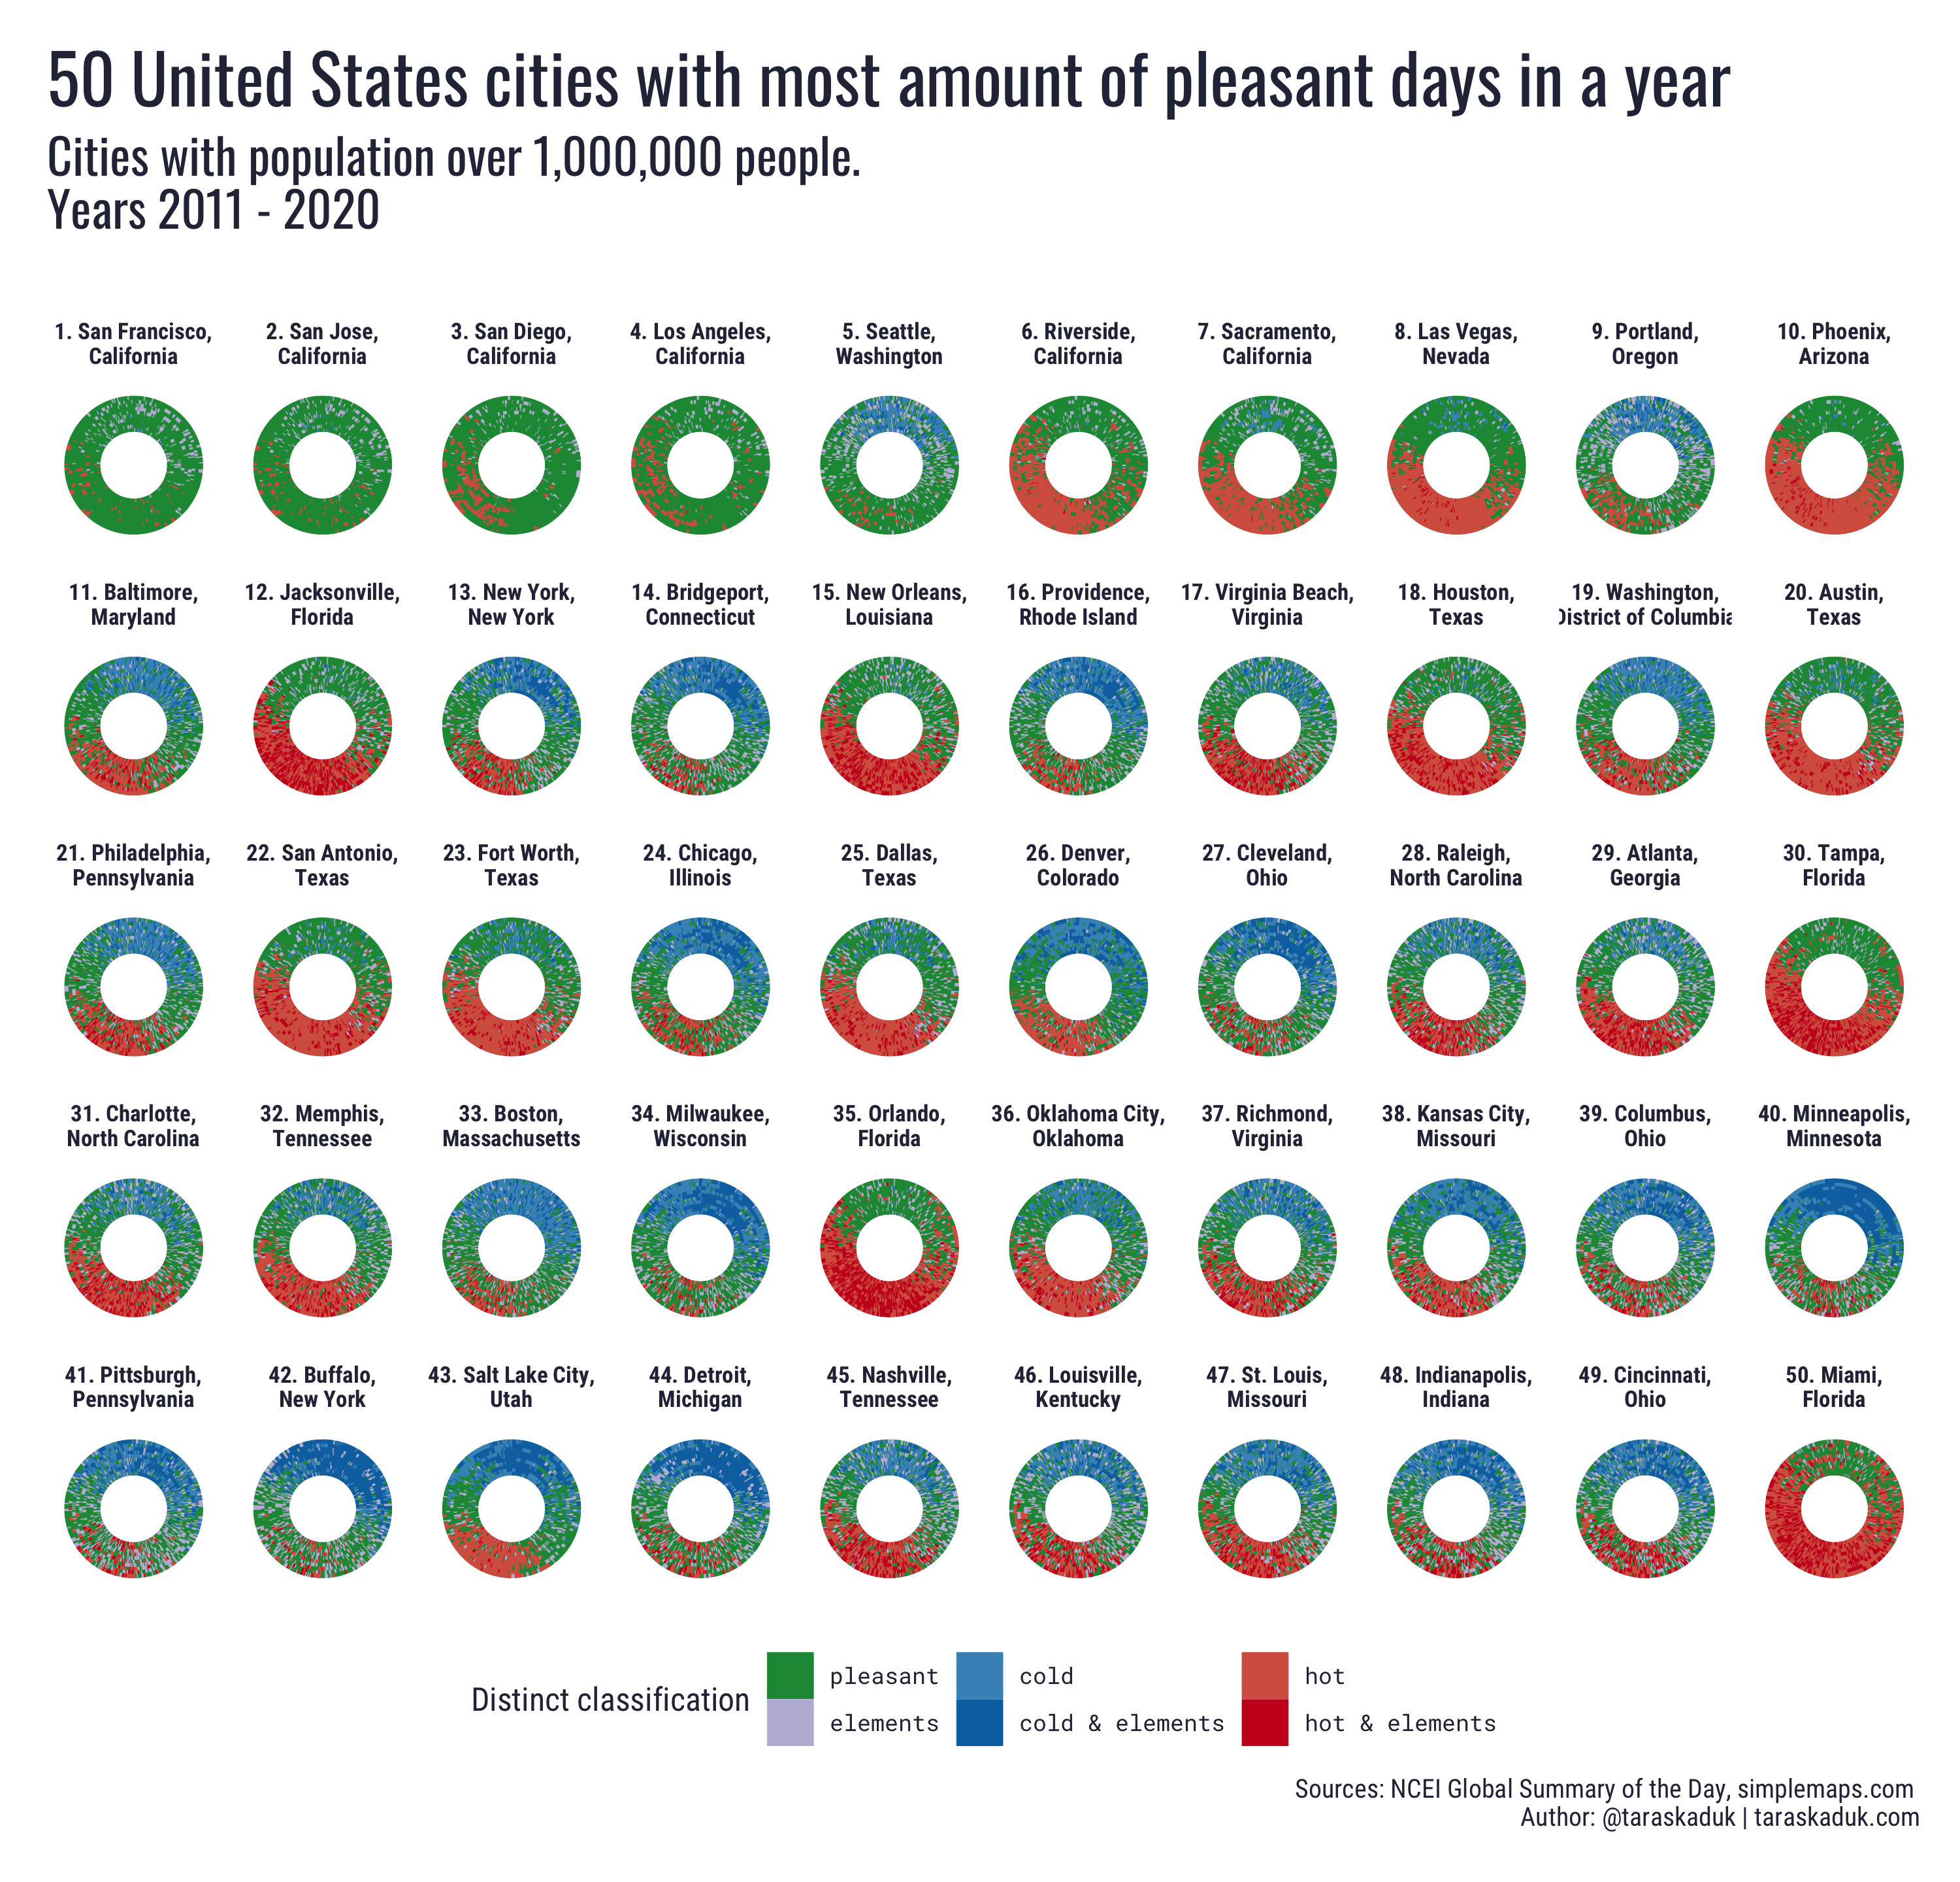

This screenshot's page, from the dashboard's own definition file:
{"tool":"tableau","page":{"name":"Radial Stack Bar Charts","canvas":[900,800],"ordinal":0},"visuals":[{"type":"worksheet","title":"radial stacked bar","mark":"Polygon","box":[0,0,796,800]},{"type":"legend","title":"radial stacked bar","param":"[federated.0d4brrl0id6ggj1ffol9q0xiccq4].[none:Calculation_4518799278402621453:n","box":[796,0,104,90]},{"type":"parameter","param":"[Parameters].[Parameter 4]","box":[796,90,104,52]},{"type":"parameter","param":"[Parameters].[Parameter 1]","box":[796,142,104,52]},{"type":"parameter","param":"[Parameters].[Parameter 2]","box":[796,194,104,52]},{"type":"parameter","param":"[Parameters].[Parameter 3]","box":[796,246,104,52]},{"type":"worksheet","title":"social","mark":"Shape","cols":["Platform"],"box":[840,770,60,30]}]}

Visuals, with their boxes on the page's 900x800 design canvas (x1, y1, x2, y2). These are canvas units, not pixel positions in the 1960x1882 screenshot, which may show the page scaled, cropped or inside an application window:
"radial stacked bar" worksheet (Polygon marks): box=[0, 0, 796, 800]
"radial stacked bar" legend: box=[796, 0, 900, 90]
parameter: box=[796, 90, 900, 142]
parameter: box=[796, 142, 900, 194]
parameter: box=[796, 194, 900, 246]
parameter: box=[796, 246, 900, 298]
"social" worksheet (Shape marks): box=[840, 770, 900, 800]
